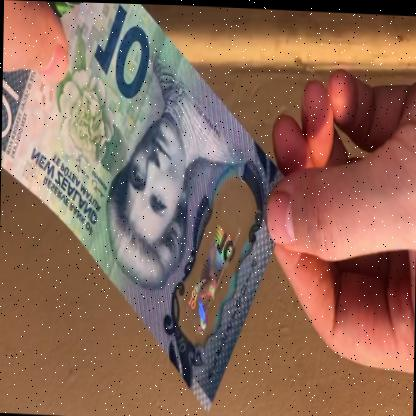10B: (182, 219, 238, 337)
